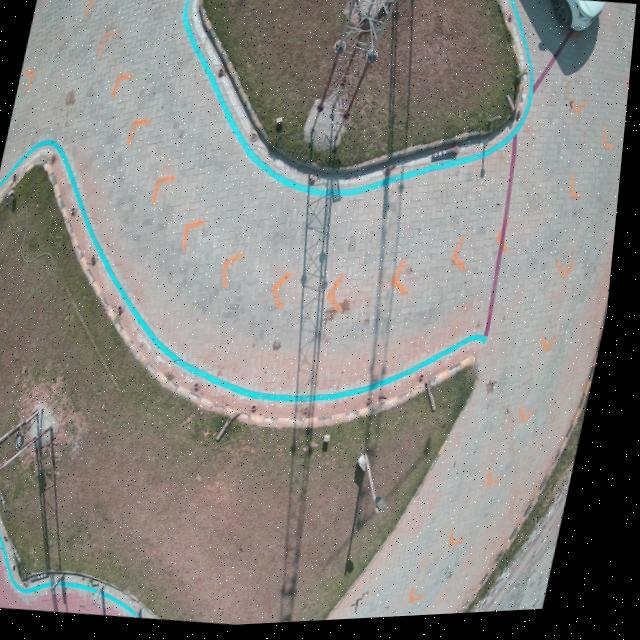car: (552, 4, 606, 37)
